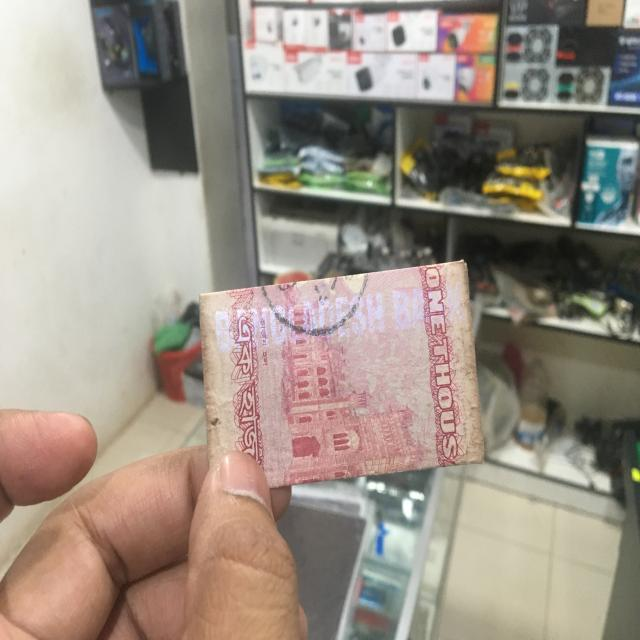Taka: (198, 276, 482, 485)
